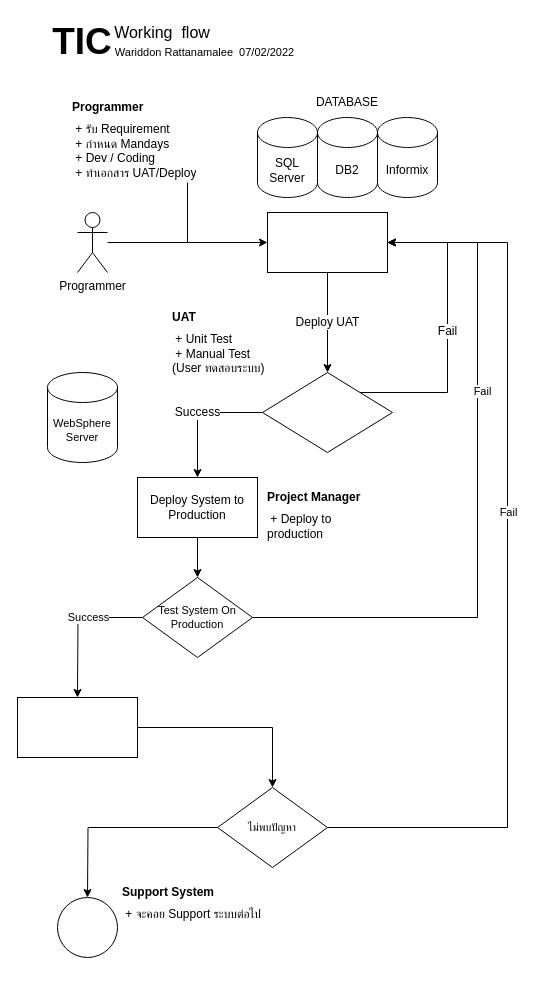
This 534x984 diagram has some shape labels left out. Each missing label, with the centre of its shape:
Developer / Coding / Fix Bug: pixel 327 242
End: pixel 87 927
Post Implement (ตรวจสอบการทำงานของระบบ ทุกวัน): pixel 77 727
UAT: pixel 327 412
